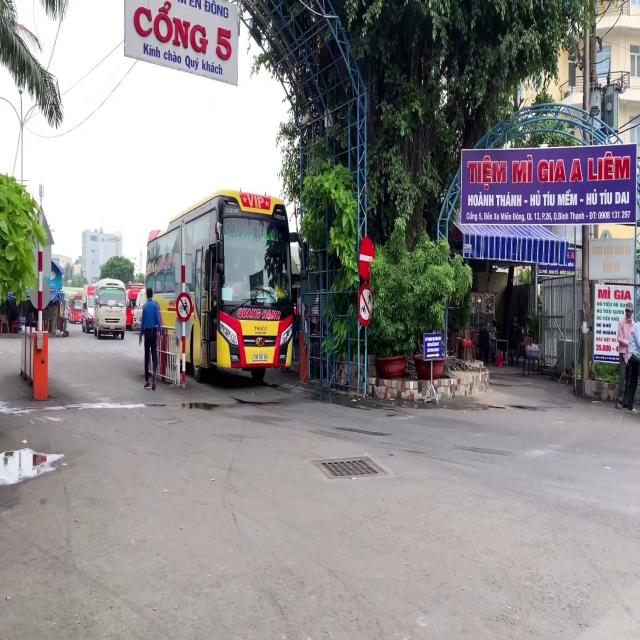bien_trang: (253, 354, 268, 361)
